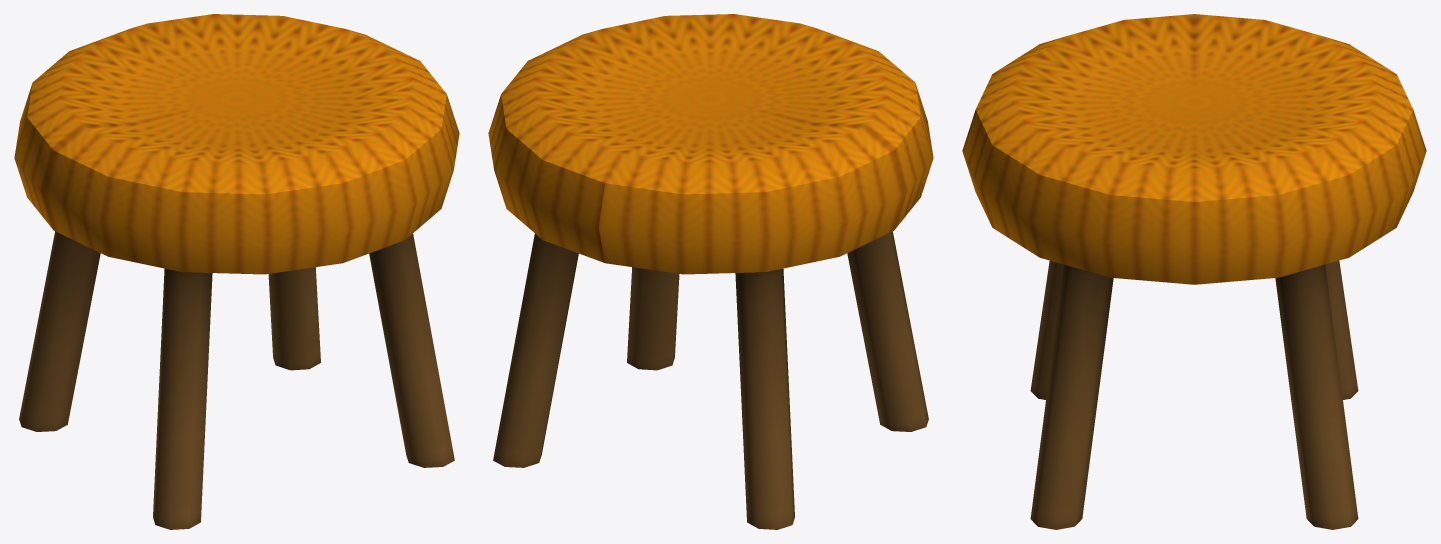
The model's file is Stool.fbx.
3 views of the same model, side by side, from view 1: azimuth 30°, elevation 25°; view 2: azimuth 150°, elevation 25°; view 3: azimuth 270°, elevation 25° (orthographic). The views are drawn at different scales.
Parts seen in each view (by area): view 1: U_Stool; view 2: U_Stool; view 3: U_Stool.
Boxes of the visible parts, left/top/right/bottom form: U_Stool: left=14, top=14, right=459, bottom=529; U_Stool: left=488, top=14, right=933, bottom=529; U_Stool: left=962, top=14, right=1426, bottom=529.
Bounding box in the file's own units: 76.76 × 66.23 × 76.77.
1 material, 1 textured.
